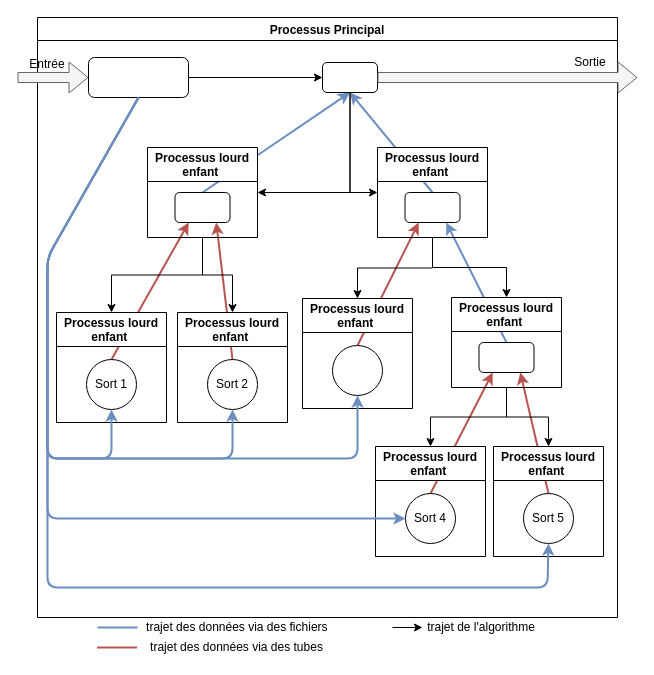
This 654x675 diagram has some shape labels left out. Each missing label, with the centre of its shape:
"Merge 1" goes at [350,77].
"Merge 2" goes at [202,207].
"Merge 3" goes at [432,207].
"Merge 4" goes at [506,357].
"Sort 3" goes at [357,370].
"Split en 5 sous fichier" goes at [138,77].
